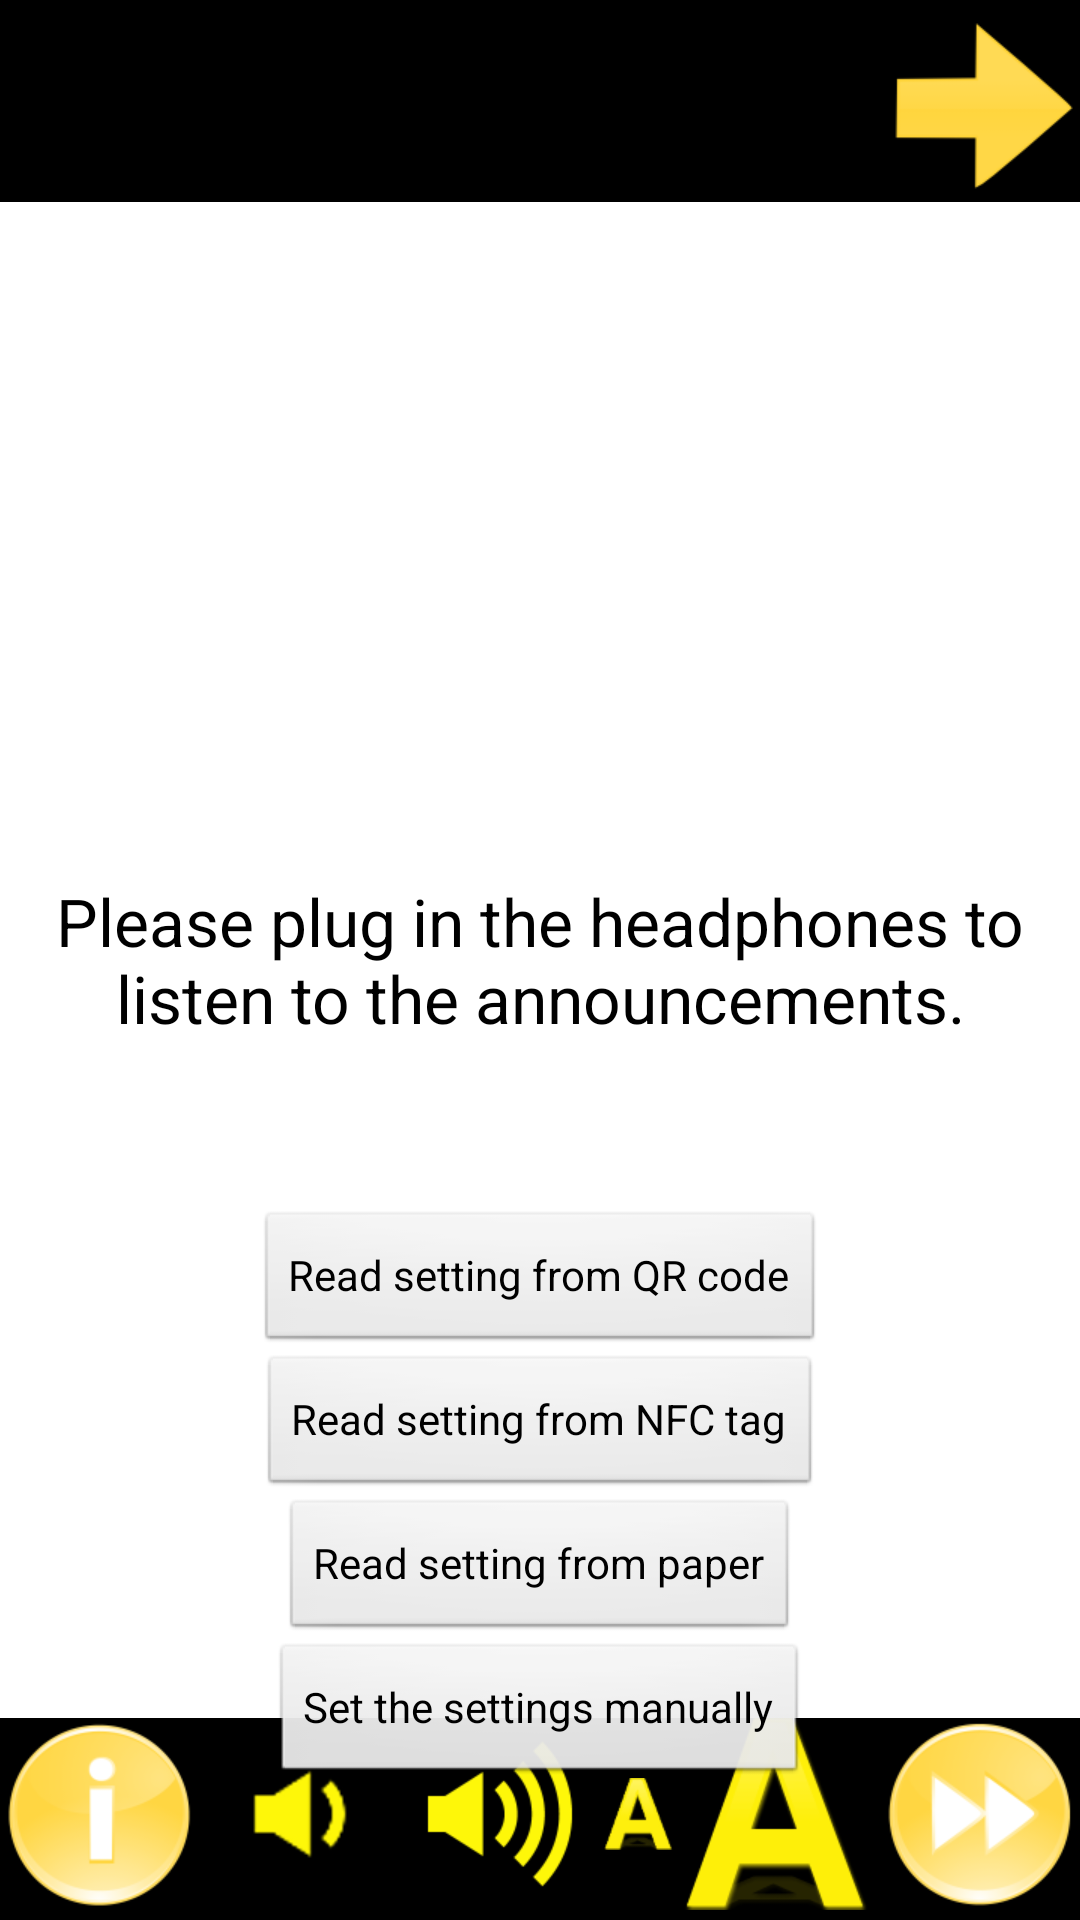

Where icons sit on this 1080px×1920px app screen, as (x1, y1, x2, y2):
end: (888, 1723, 1071, 1906)
help: (8, 1724, 190, 1906)
next: (895, 23, 1073, 189)
vol dec: (253, 1718, 400, 1857)
vol inc: (400, 1718, 600, 1887)
